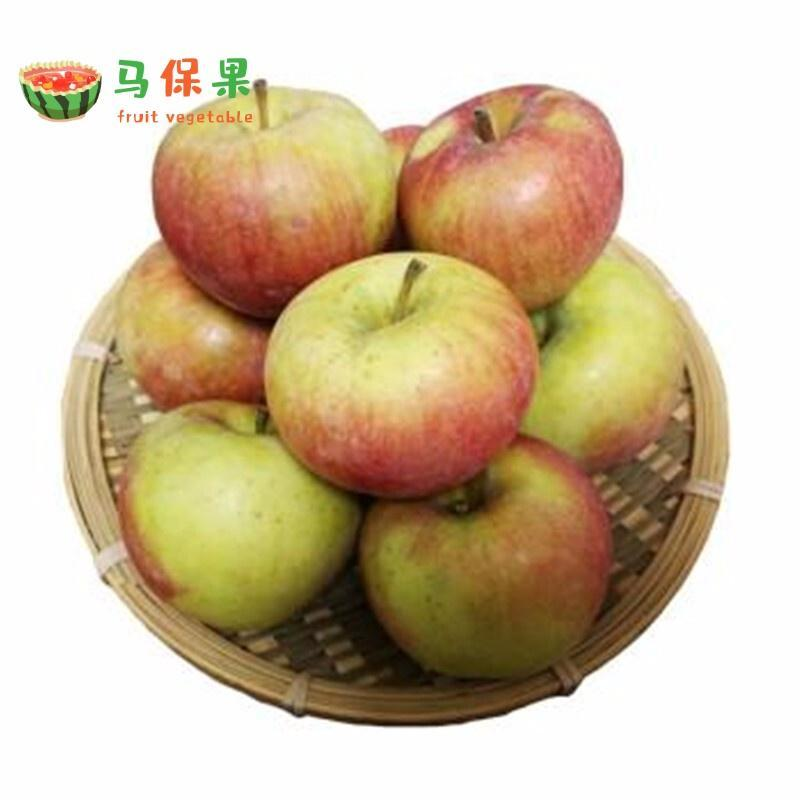apple: (262, 249, 536, 501), (148, 86, 395, 320), (364, 446, 608, 678), (118, 402, 356, 635), (399, 82, 622, 316), (517, 238, 690, 470), (112, 238, 280, 416)
